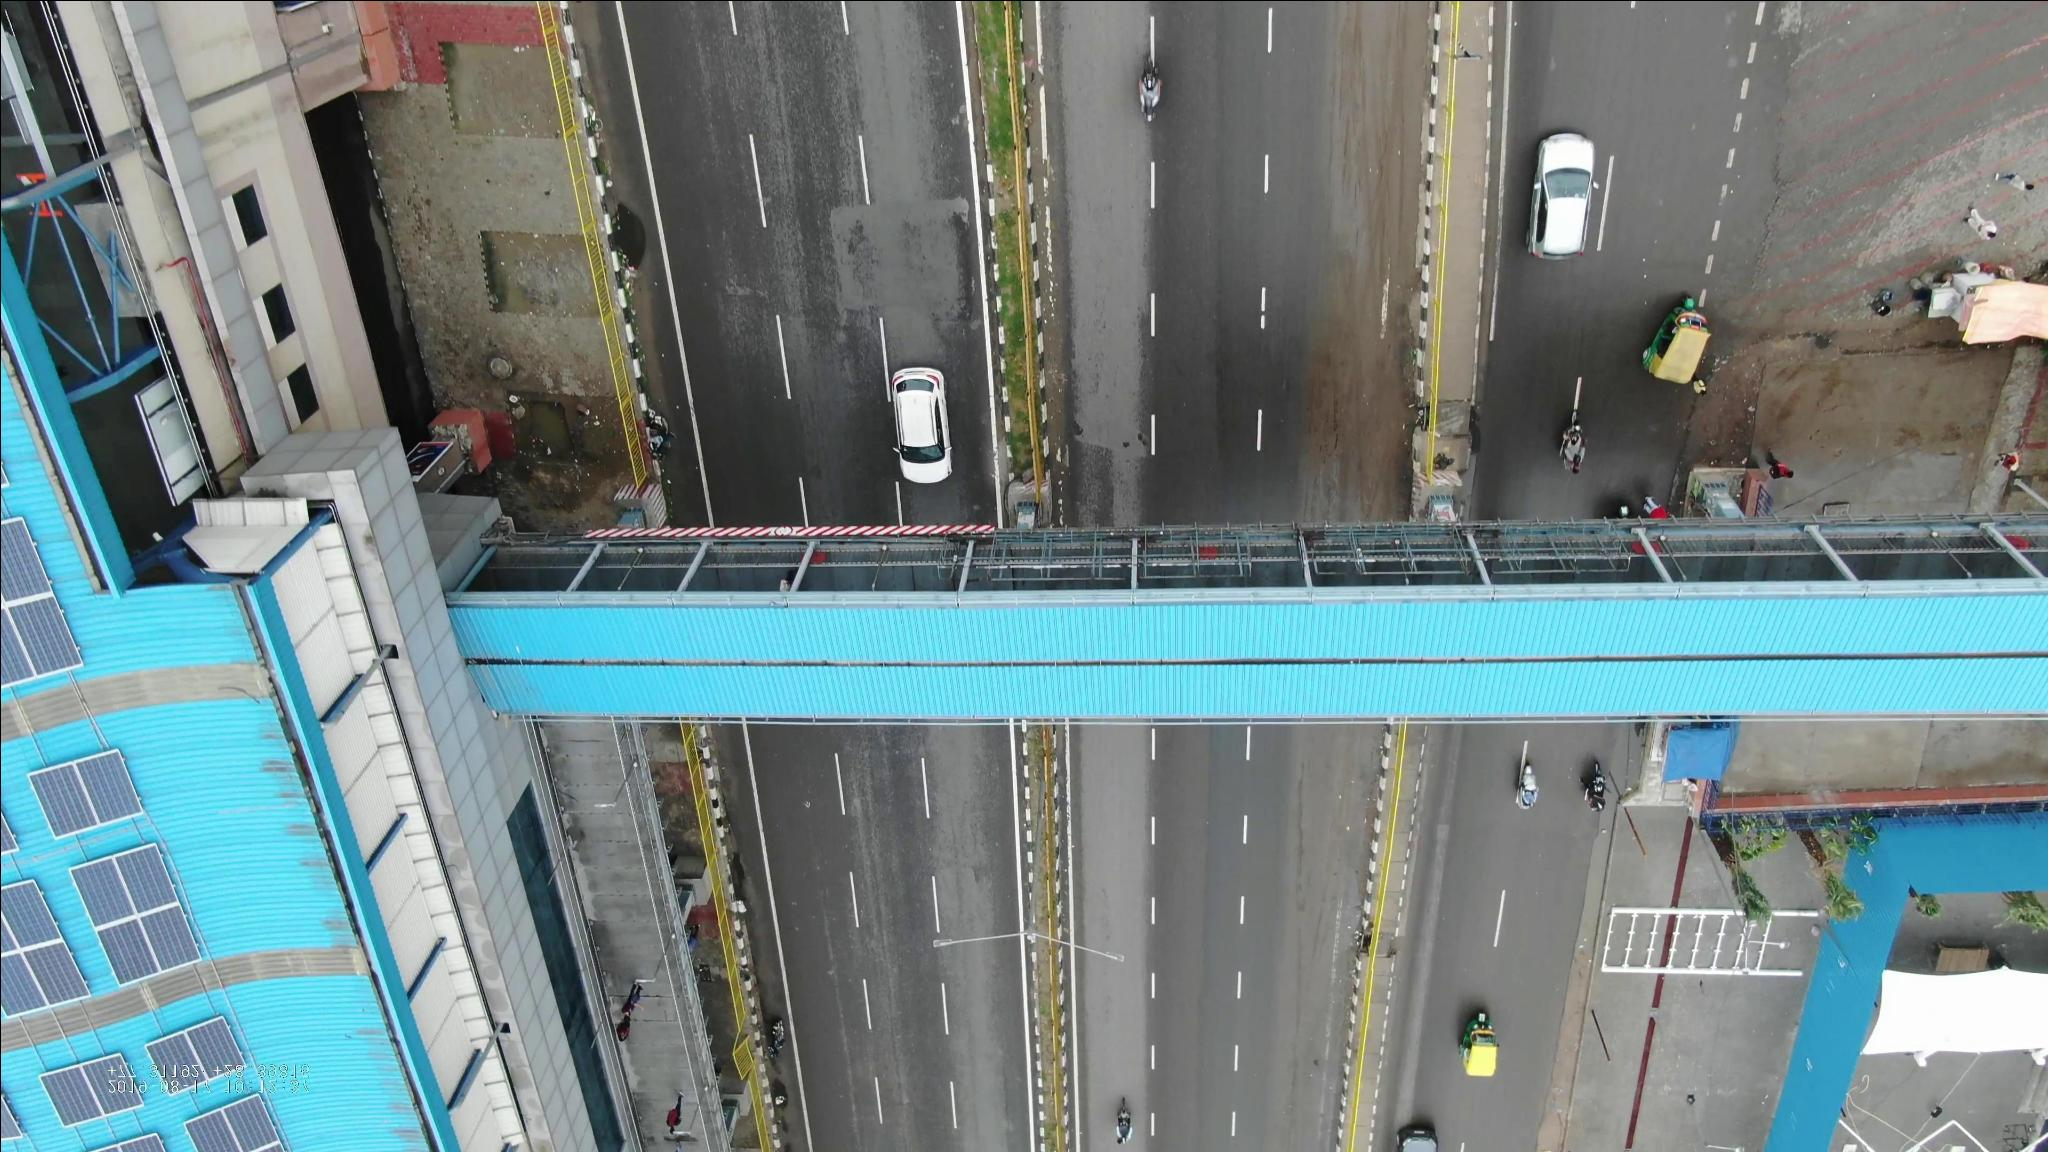Muddy_road: (1283, 7, 1391, 492), (1273, 738, 1371, 949)
